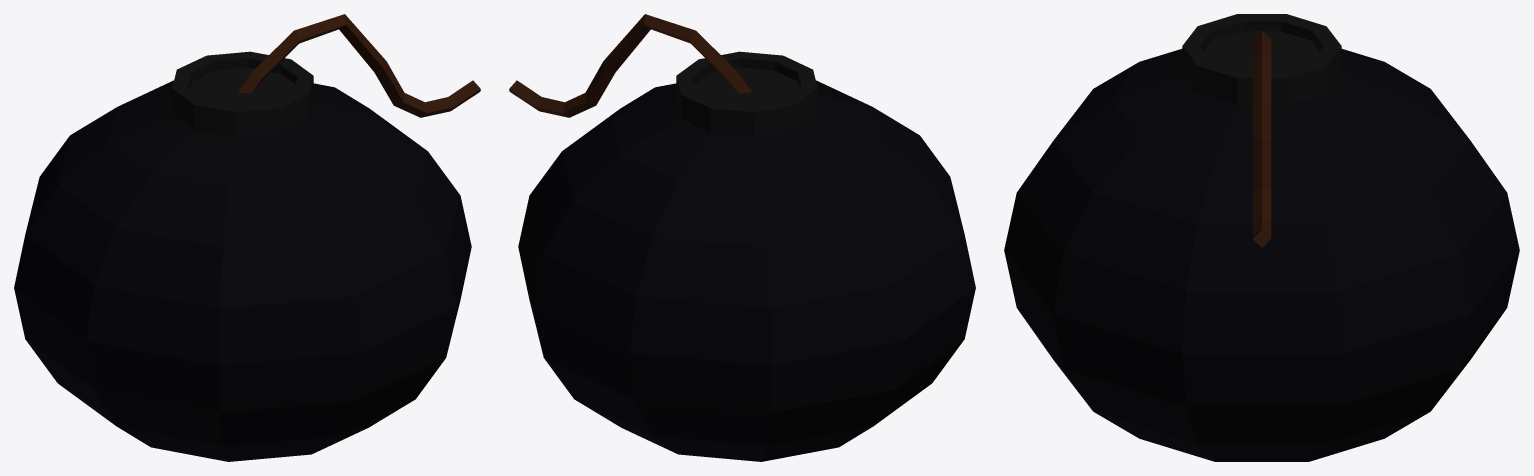
File: BOMBZZZZ.obj
3 renders of one model, left to right at view 1: azimuth 30°, elevation 25°; view 2: azimuth 150°, elevation 25°; view 3: azimuth 270°, elevation 25°, orthographic. The views are drawn at different scales.
Parts seen in each view (by area): view 1: Sphere; view 2: Sphere; view 3: Sphere.
Part boxes in pixels (<box>): Sphere: <box>14,14,480,461</box>; Sphere: <box>509,14,975,461</box>; Sphere: <box>1004,14,1519,461</box>.
Bounding box in the file's own units: 2.12 × 1.87 × 2.
